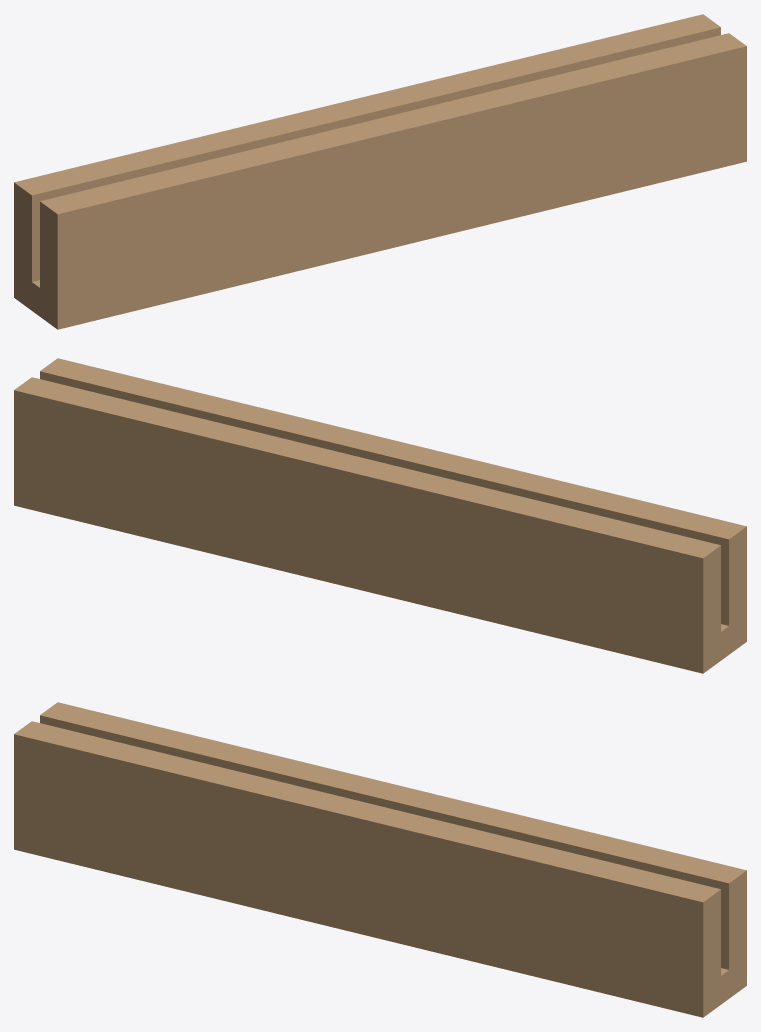
The model's file is prop-bevel-stock-blank-sb1.fbx.
3 renders of one model, top to bottom at view 1: azimuth 30°, elevation 25°; view 2: azimuth 150°, elevation 25°; view 3: azimuth 330°, elevation 25°, orthographic.
Parts seen in each view (by area): view 1: prop-bevel-stock-blank-sb1; view 2: prop-bevel-stock-blank-sb1; view 3: prop-bevel-stock-blank-sb1.
Part boxes in pixels (x1=…): prop-bevel-stock-blank-sb1: x1=14, y1=14, x2=746, y2=329; prop-bevel-stock-blank-sb1: x1=14, y1=358, x2=746, y2=673; prop-bevel-stock-blank-sb1: x1=14, y1=702, x2=746, y2=1017.
Bounding box in the file's own units: 20 × 3.2 × 2.2.
